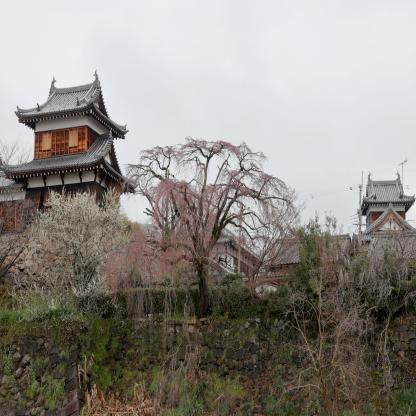Ume: (107, 132, 302, 316), (13, 187, 128, 328)
